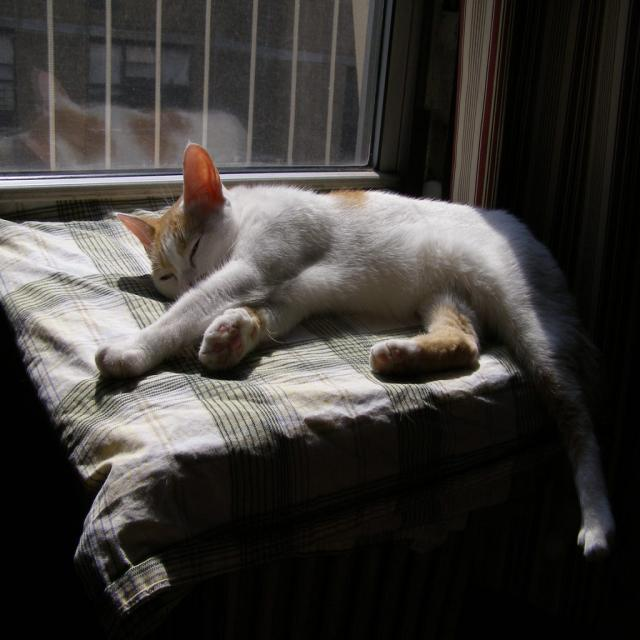Cat: (92, 139, 618, 564)
